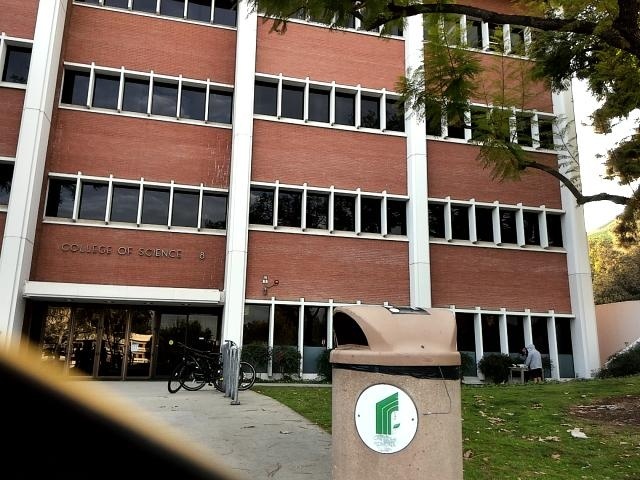trashcan: (324, 303, 467, 480)
